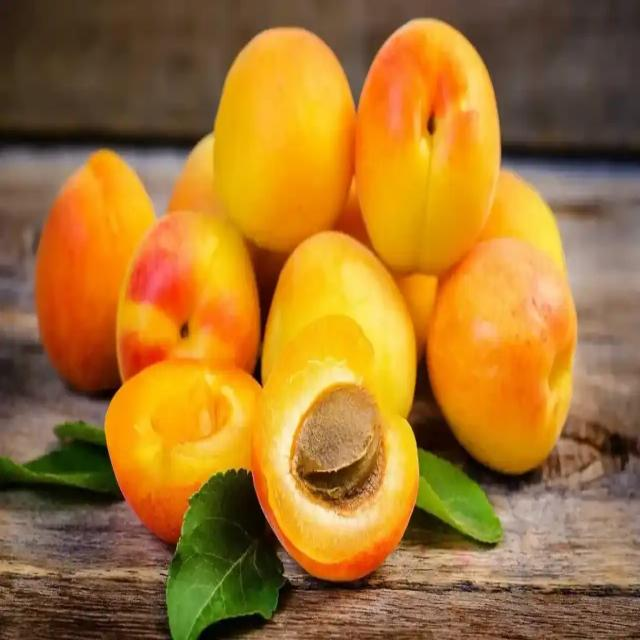Cekirdek: (294, 384, 380, 489)
Kayisi: (104, 360, 260, 543)
Yaprak: (166, 470, 286, 639)
